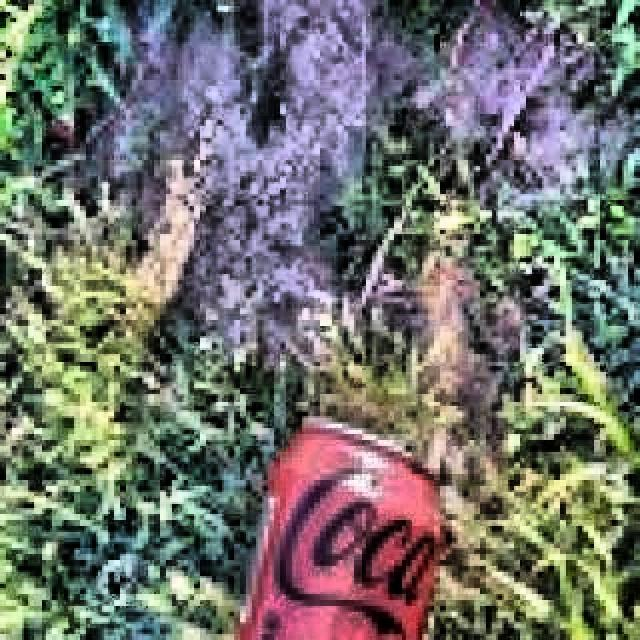metal: (234, 418, 449, 640)
